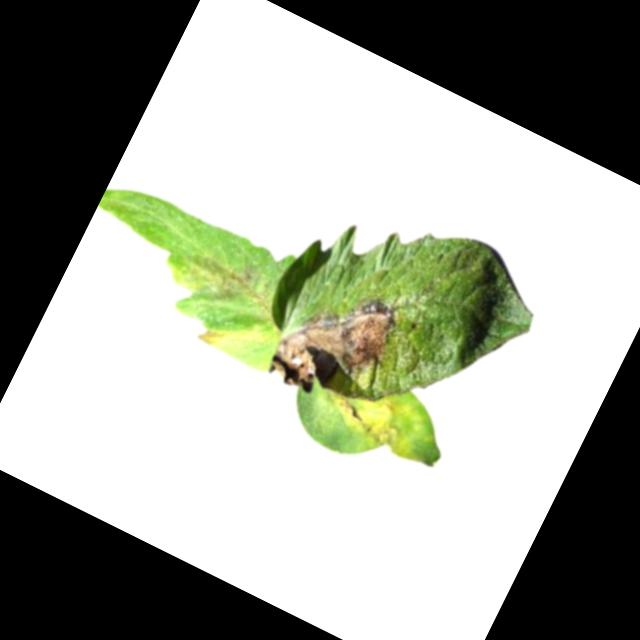Late_blight: (265, 264, 411, 418), (177, 234, 286, 326), (324, 378, 415, 454), (195, 302, 276, 368)
